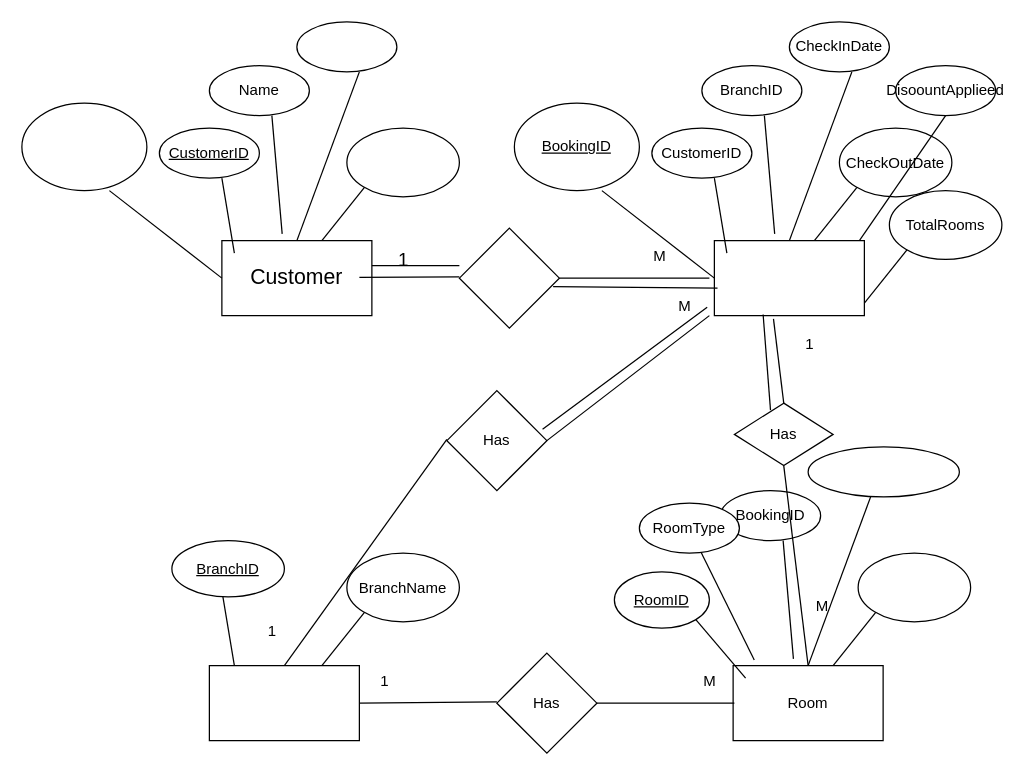
Some shapes in this 1026 by 775 pixel diagram are drawn without their labels. The shapes that lost their labels are listed below. From the top down, each one's centre as x and y in pixels, then its label:
(x=346, y=46): PhoneNumber
(x=84, y=146): HasBookedBefore
(x=402, y=162): NationalID
(x=508, y=277): Book
(x=788, y=277): Booking
(x=883, y=471): NumberOfChildren
(x=914, y=587): NumberOfAdults
(x=283, y=702): Branch
